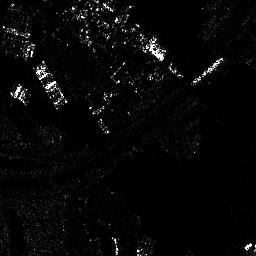ship: (191, 56, 224, 83)
